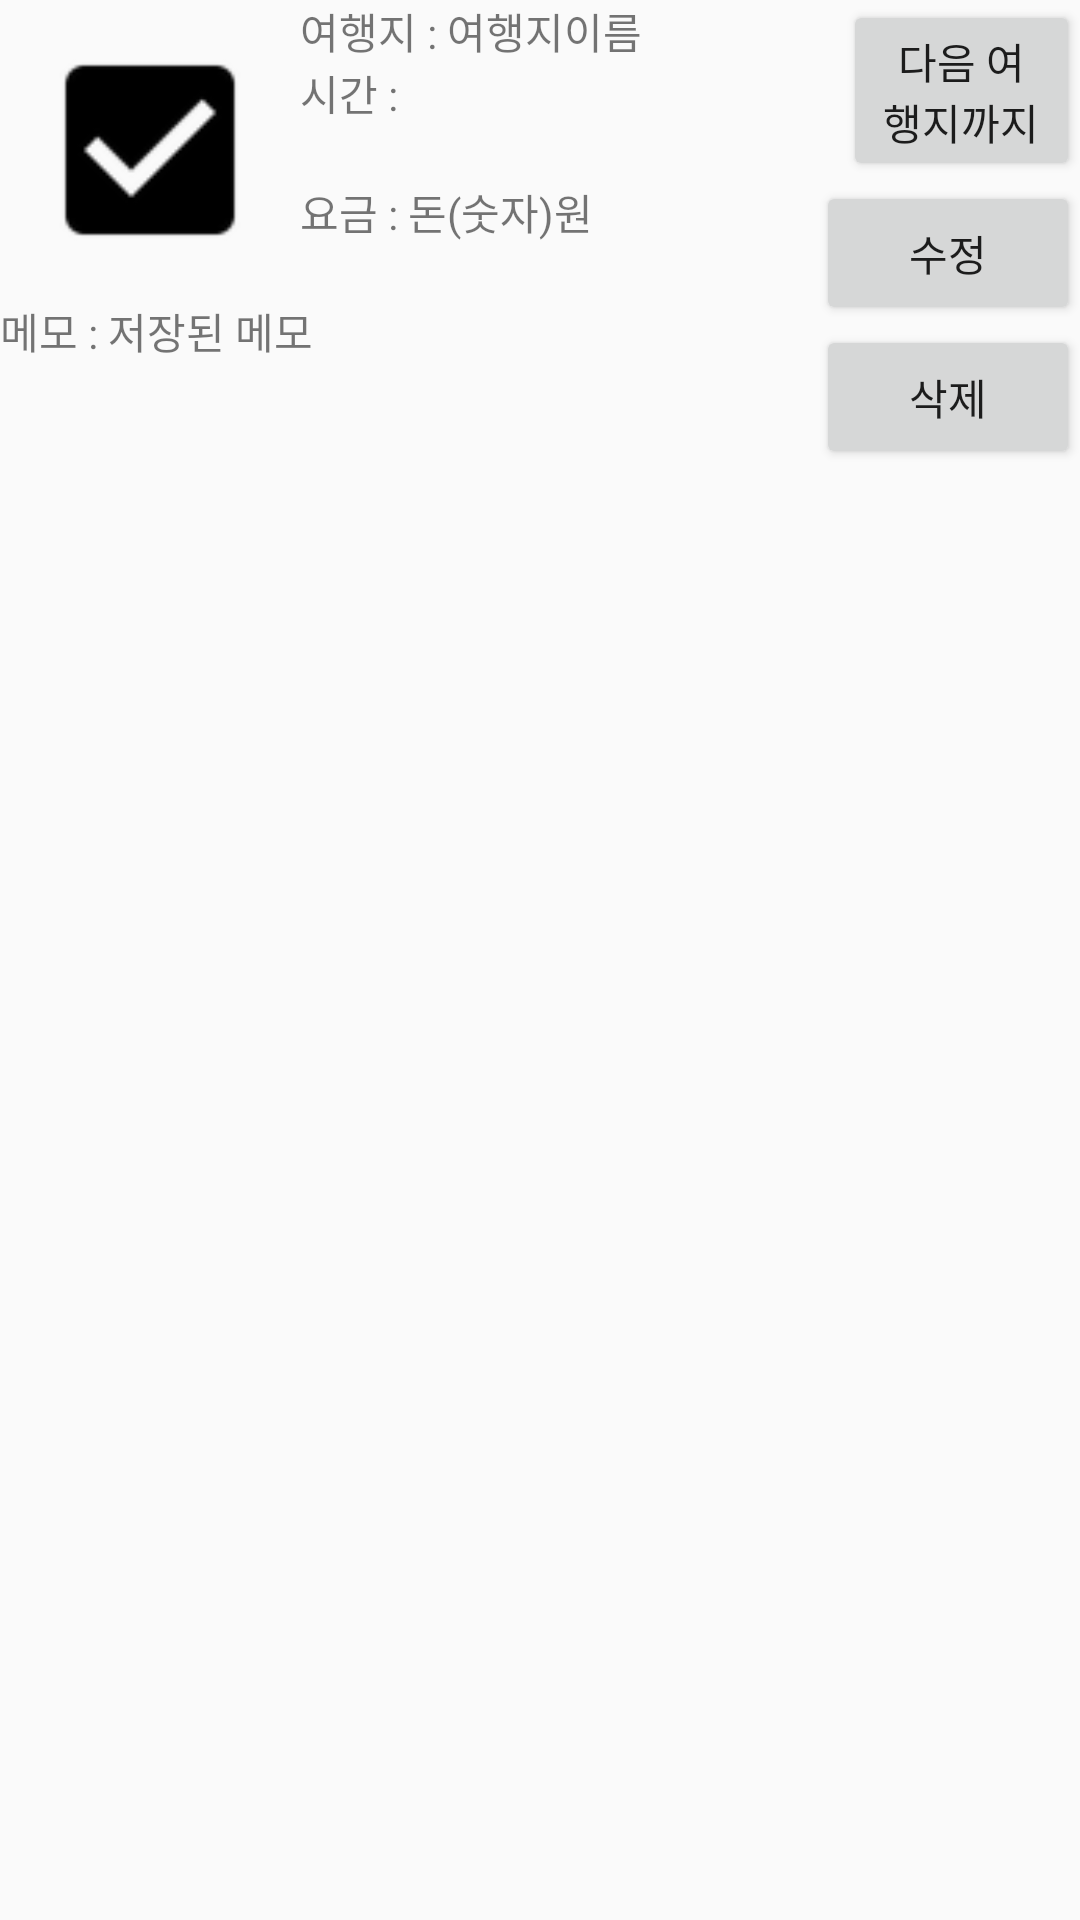

Icons on this 1080*1920 Android screen, each with its box as (x1, y1, x2, y2):
check to on: (64, 64, 236, 236)
